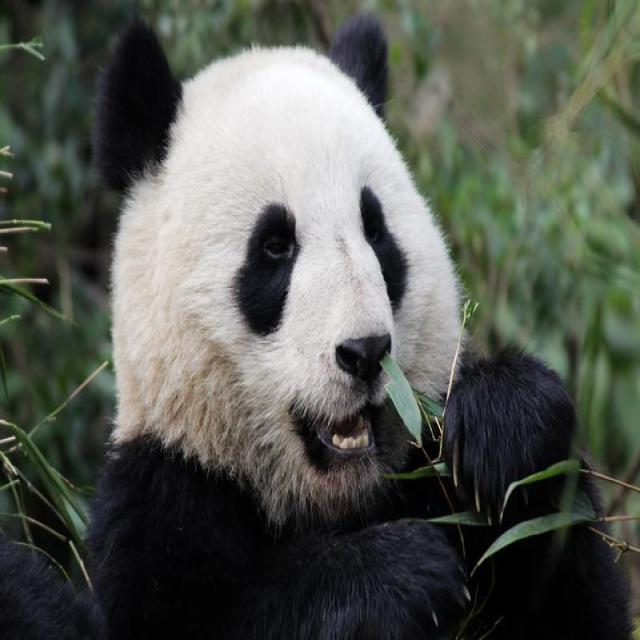panda: (3, 9, 640, 640)
